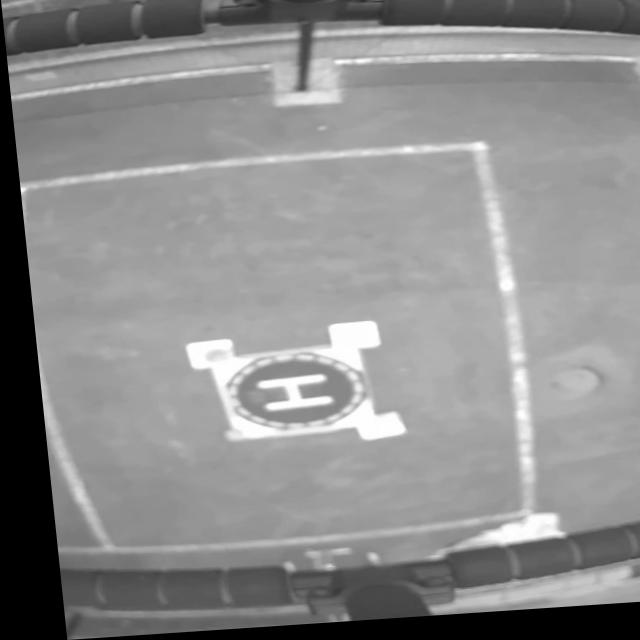Helipad: (248, 378, 323, 414)
